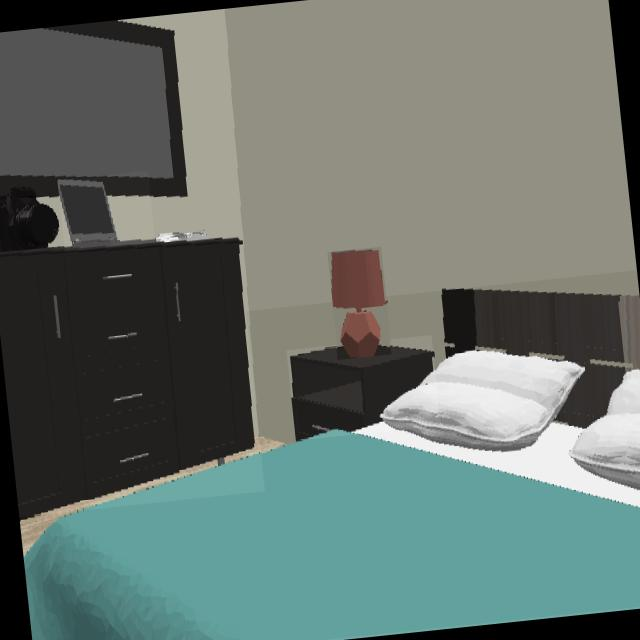bed: (23, 290, 640, 640)
cabinet: (0, 240, 254, 517)
lamp: (333, 251, 386, 357)
laptop: (57, 181, 149, 247)
nighttable: (293, 345, 433, 440)
